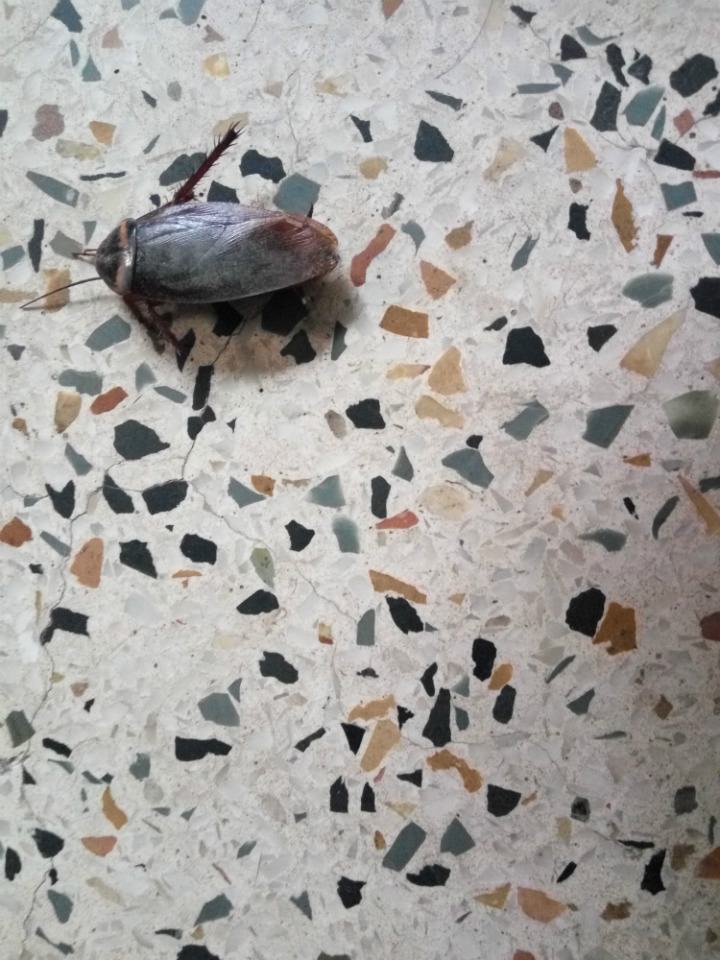cockroach: (15, 127, 396, 381)
